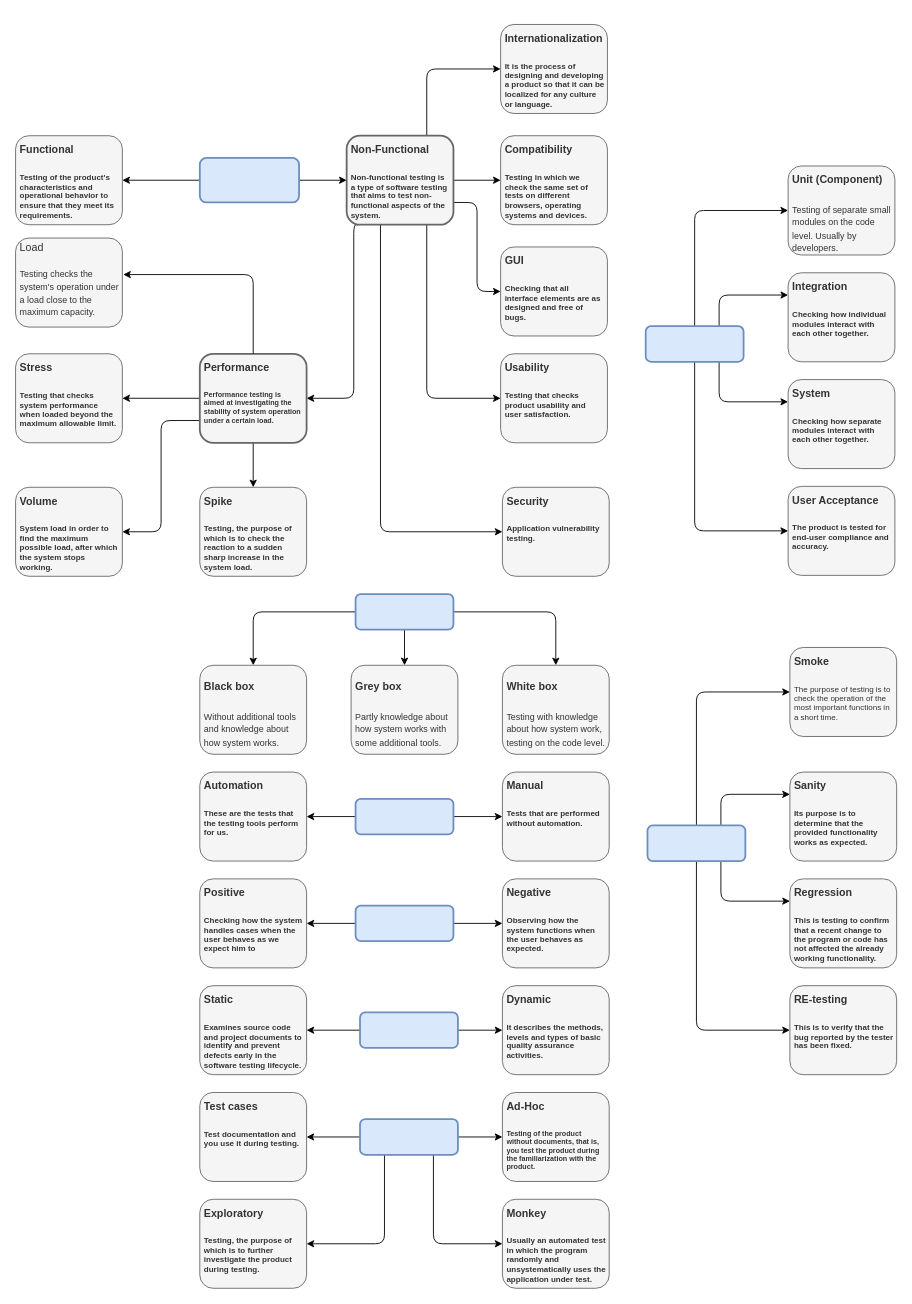
Some shapes in this 912 by 1304 pixel diagram are drawn without their labels. Here are the shapes that lost their labels. From the top down, the centre of each, then its label:
At point 248,180: "Object of Testing".
At point 694,343: "Levels of the Testing".
At point 404,611: "Knowledge of the System".
At point 404,816: "Degree of Automation".
At point 696,843: "Related to Changes".
At point 404,923: "Basis of Scenarios".
At point 408,1029: "Code execution status".
At point 408,1136: "Level of Preparation".
